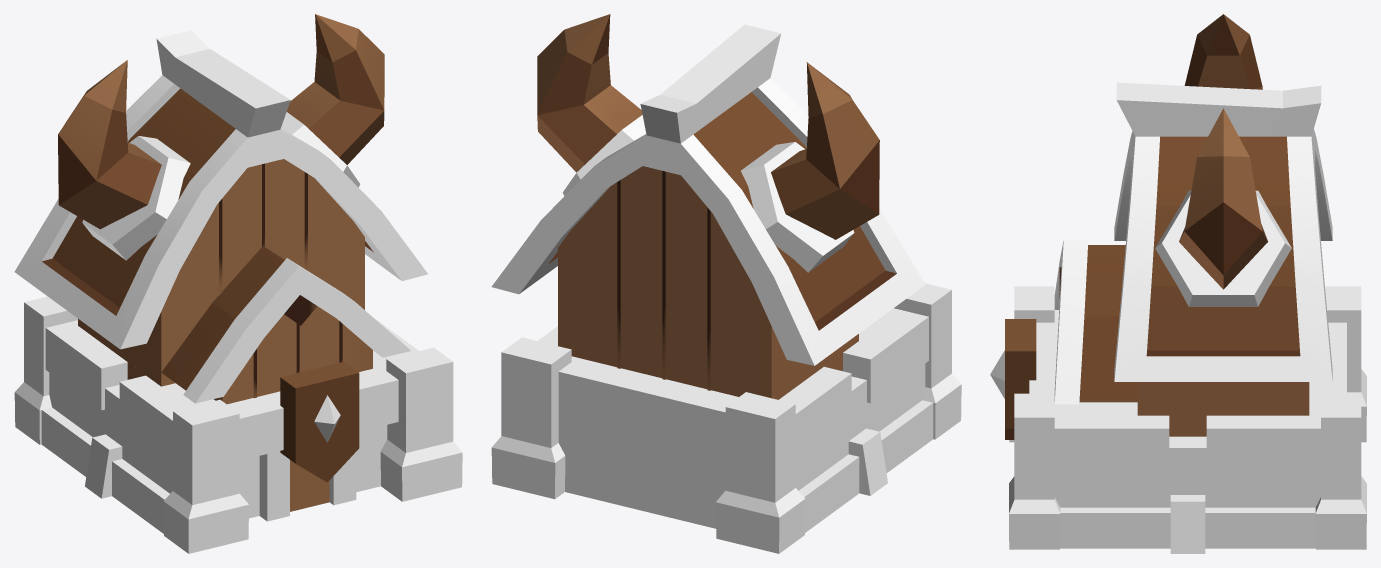
Rendered from Building_CityHall_Lv11.fbx.
The picture shows the model from 3 angles, left to right: view 1: azimuth 30°, elevation 25°; view 2: azimuth 150°, elevation 25°; view 3: azimuth 270°, elevation 25°; orthographic projection. The views are drawn at different scales.
Visible parts, largest first — view 1: Building_CityHall_Lv11; view 2: Building_CityHall_Lv11; view 3: Building_CityHall_Lv11.
Boxes of the visible parts, <box> form: Building_CityHall_Lv11: <box>14,14,462,553</box>; Building_CityHall_Lv11: <box>491,14,961,553</box>; Building_CityHall_Lv11: <box>990,14,1366,553</box>.
Bounding box in the file's own units: 1.07 × 1.27 × 1.04.
